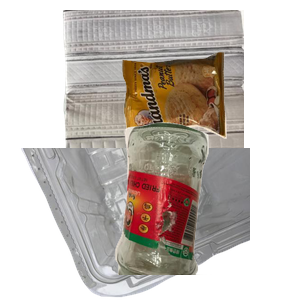glass: (112, 120, 300, 300)
paper: (60, 10, 300, 190)
plastic: (19, 148, 259, 300)
trash: (120, 50, 300, 182)
